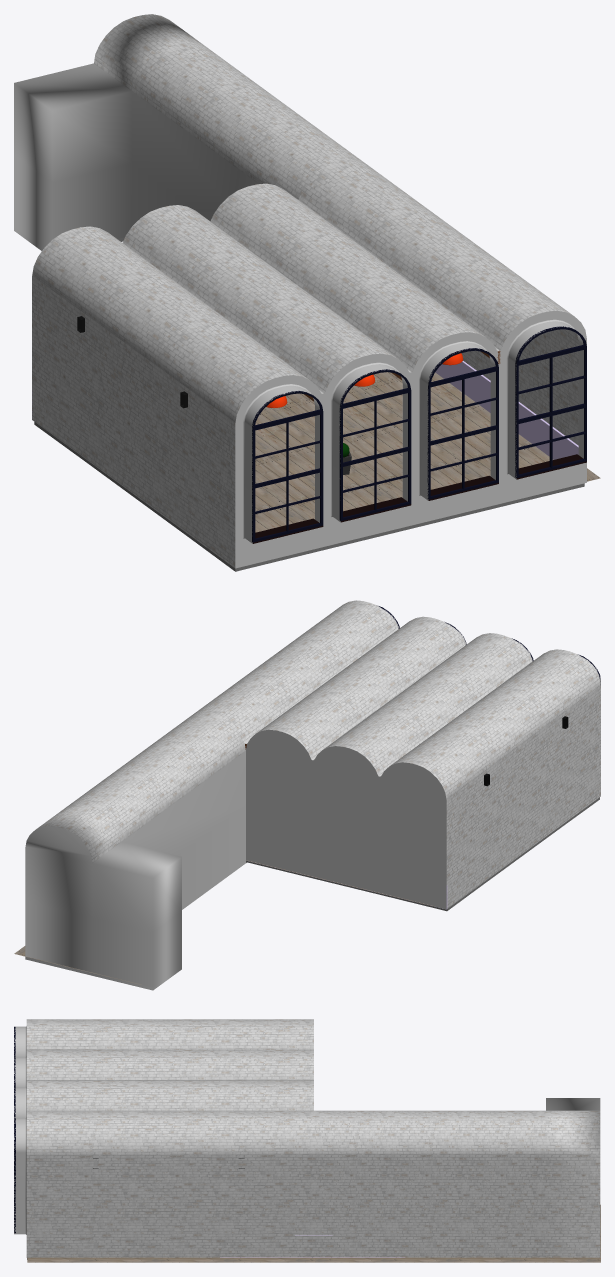
File: TestShadowsNew.FBX
3 renders of one model, top to bottom at view 1: azimuth 30°, elevation 25°; view 2: azimuth 150°, elevation 25°; view 3: azimuth 270°, elevation 25°, orthographic. The views are drawn at different scales.
Visible parts, largest first — view 1: wall, windowwall (2), floor, window_, window_ (4), window_ (3), window_ (2), lowerpanel (2), BASEBOARD, windowsill; view 2: wall, wall (2), BASEBOARD; view 3: wall, floor, windowwall (2).
Part boxes in pixels (x1,y1,x2,y2): wall: [14, 14, 578, 568]; windowwall (2): [235, 310, 586, 568]; floor: [255, 372, 600, 532]; window_: [515, 326, 586, 477]; window_ (4): [252, 391, 323, 542]; window_ (3): [339, 369, 411, 520]; window_ (2): [427, 348, 498, 499]; lowerpanel (2): [435, 361, 578, 459]; BASEBOARD: [14, 227, 584, 571]; windowsill: [253, 454, 586, 543]; wall: [25, 600, 600, 987]; wall (2): [246, 729, 446, 909]; BASEBOARD: [25, 797, 599, 990]; wall: [26, 1019, 600, 1257]; floor: [27, 1204, 600, 1262]; windowwall (2): [14, 1026, 26, 1234].
Bounding box in the file's own units: 10.54 × 5.01 × 20.42.
